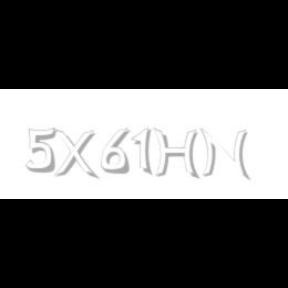1: (131, 128, 153, 176)
5: (25, 128, 56, 174)
6: (101, 128, 130, 176)
H: (153, 128, 199, 180)
N: (200, 128, 248, 180)
X: (52, 128, 96, 180)
